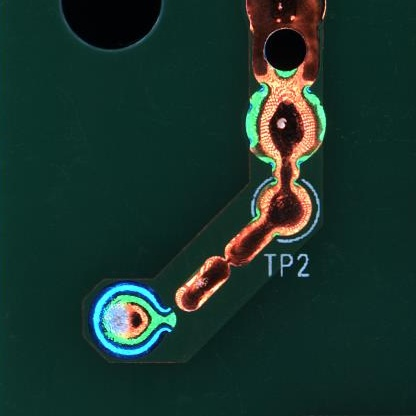spot: (89, 280, 171, 356), (247, 84, 326, 162)
